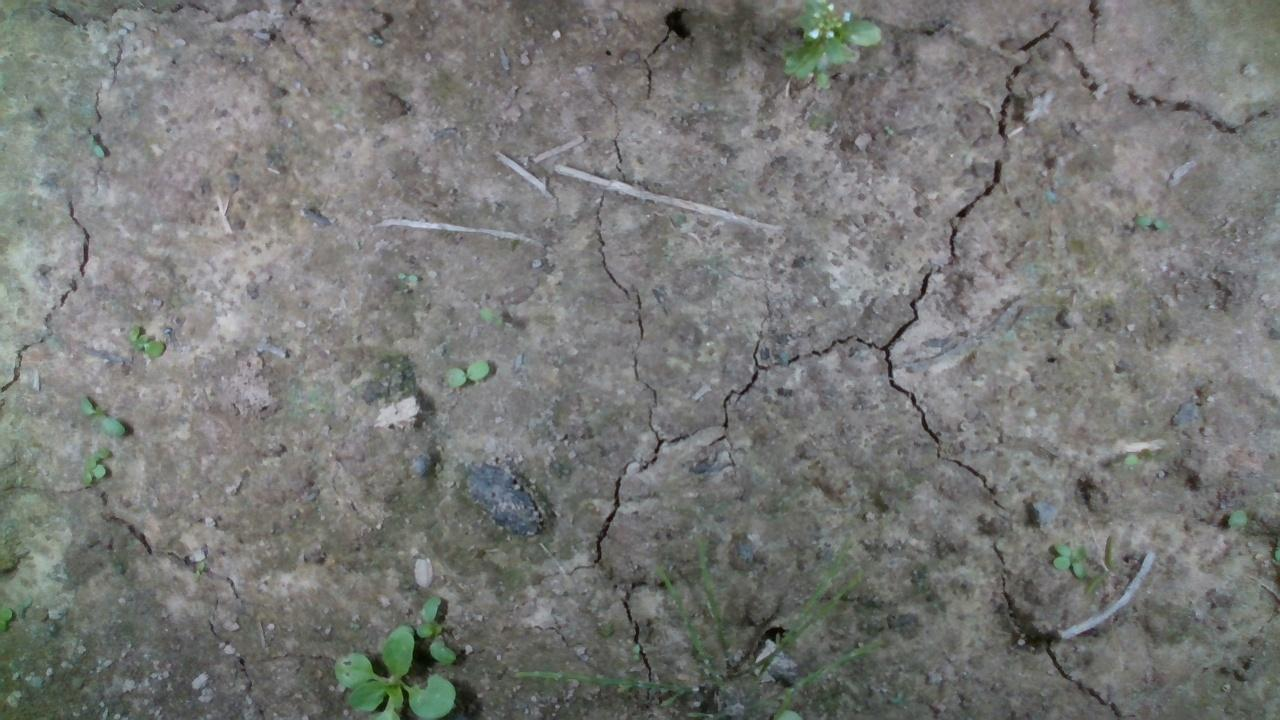weed: (77, 395, 126, 437), (1050, 539, 1088, 580), (442, 356, 489, 388), (124, 323, 165, 358), (1130, 214, 1166, 230)
